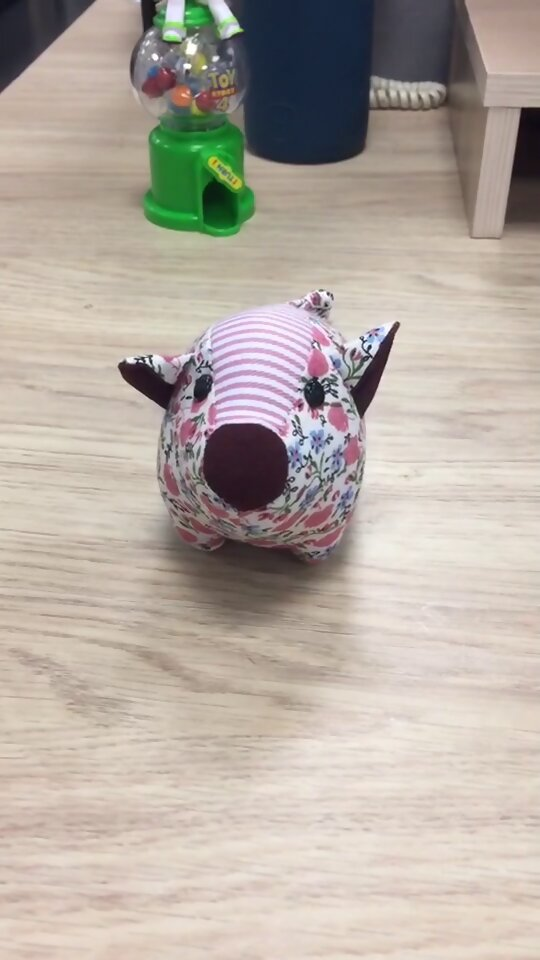pig: (112, 282, 404, 575)
